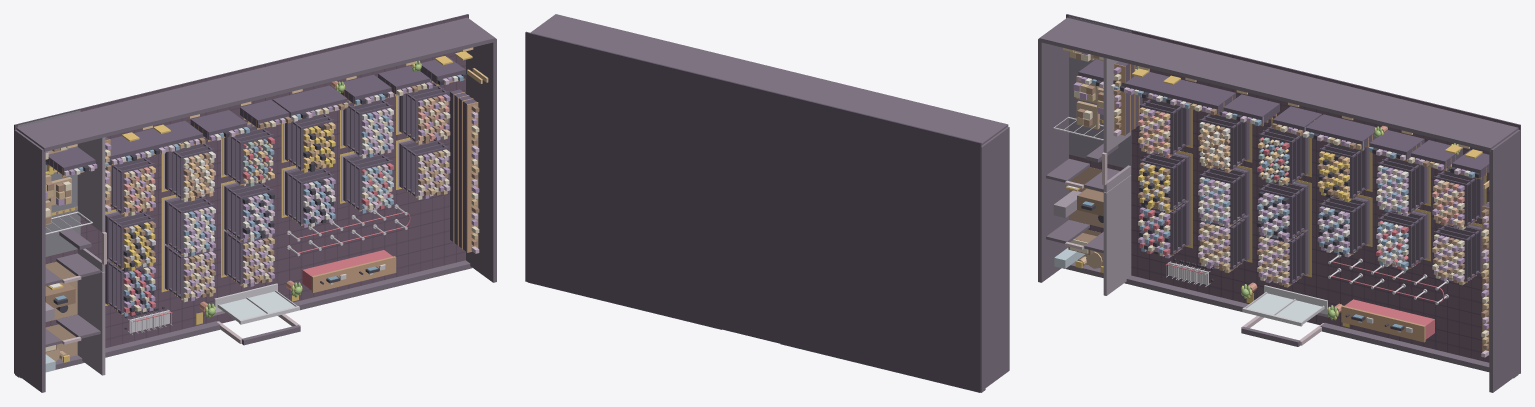
The model's file is home_and_more_shop_3d.glb.
The picture shows the model from 3 angles, left to right: view 1: azimuth 30°, elevation 25°; view 2: azimuth 150°, elevation 25°; view 3: azimuth 330°, elevation 25°; orthographic projection.
Parts seen in each view (by area): view 1: Renderer Node; view 2: Renderer Node; view 3: Renderer Node.
Part boxes in pixels (x1,y1,x2,y2): Renderer Node: (14,14,496,392); Renderer Node: (525,14,1009,392); Renderer Node: (1038,14,1520,392).
Bounding box in the file's own units: 24.77 × 13 × 2.73.
55 materials, 2 textured.
